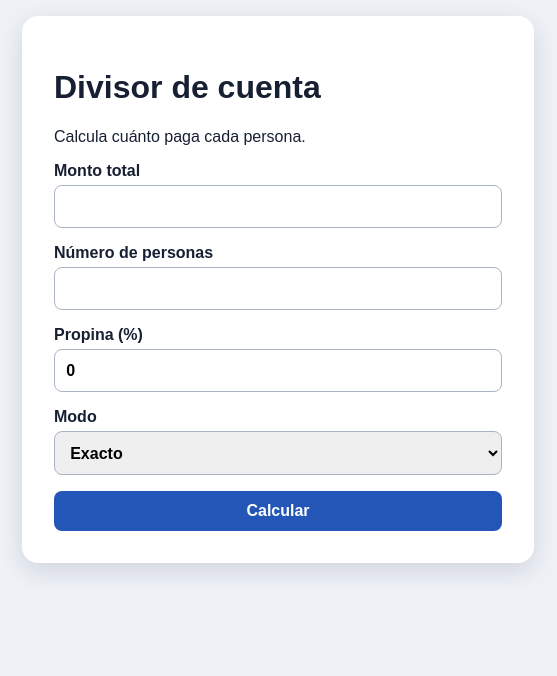
pantalla del divisor › muestra 27.50 para 100, 4 y 10%
This screenshot has width=557, height=676.
Type "100" into the field labelled "Monto total".
click(278, 207); type("100")  # box [54, 186, 502, 228]
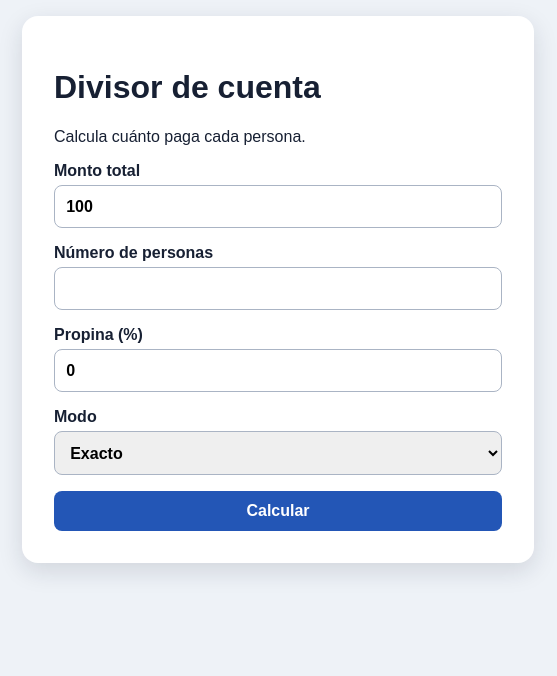
Type "4" into the field labelled "Número de personas".
click(278, 289); type("4")  # box [54, 267, 502, 310]
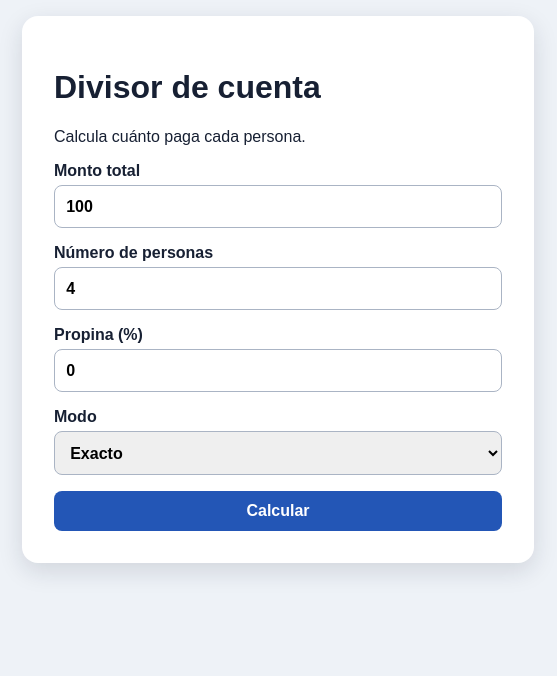
Replace the text in the field labelled "Propina" with "10" at (278,371), box [54, 349, 502, 392]
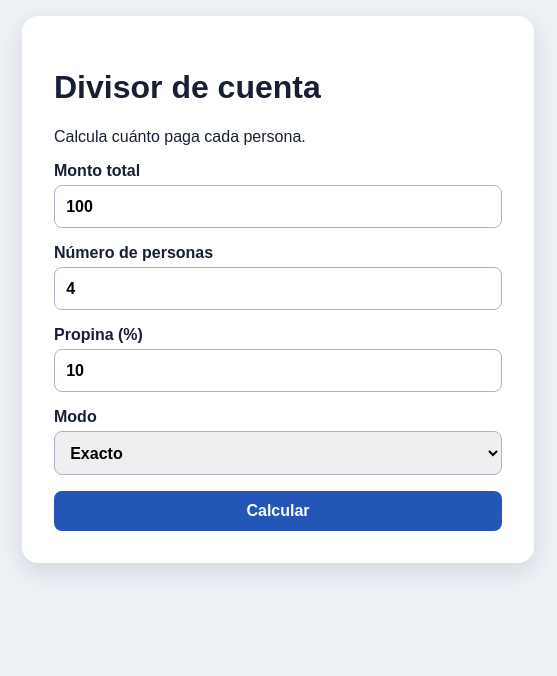
Click the button "Calcular".
click(278, 511)  # box [54, 491, 502, 531]
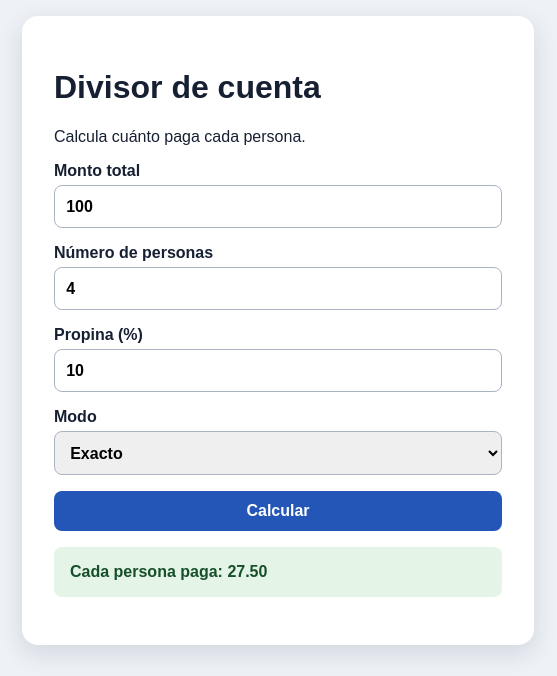
Expected: the message shows "27.50", [227, 563, 267, 580]
